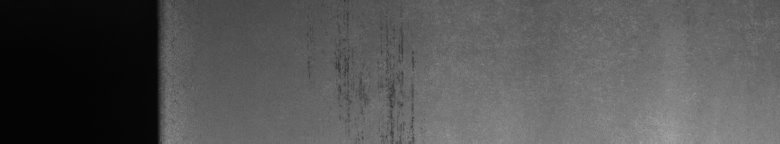ka: (308, 13, 422, 136)
